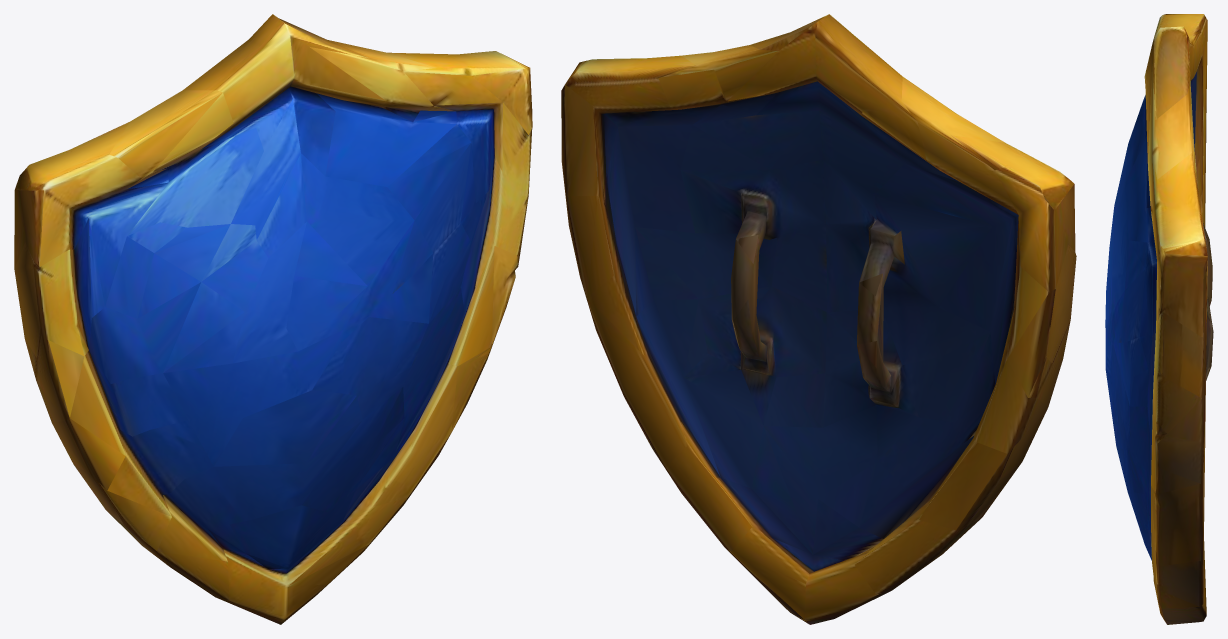
File: shield.glb
The picture shows the model from 3 angles, left to right: view 1: azimuth 30°, elevation 25°; view 2: azimuth 150°, elevation 25°; view 3: azimuth 270°, elevation 25°; orthographic projection.
Parts seen in each view (by area): view 1: TripoShieldMesh; view 2: TripoShieldMesh; view 3: TripoShieldMesh.
Part boxes in pixels (x1,y1,x2,y2): TripoShieldMesh: (14, 14, 532, 624); TripoShieldMesh: (561, 14, 1076, 624); TripoShieldMesh: (1105, 14, 1213, 624).
Size of the model in its own units: 0.95 by 1.1 by 0.18.
1 material, 1 textured.
